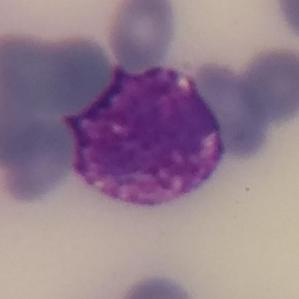Basophil: (67, 64, 227, 210)
RBC: (192, 63, 268, 159), (33, 33, 113, 113), (0, 32, 71, 116), (4, 121, 77, 199), (234, 43, 299, 128), (105, 0, 179, 67), (116, 271, 198, 299), (273, 0, 299, 45)
